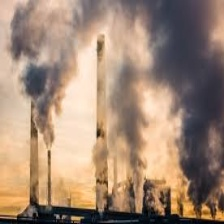smoke: (149, 3, 224, 201), (13, 1, 80, 147), (107, 60, 148, 192)
